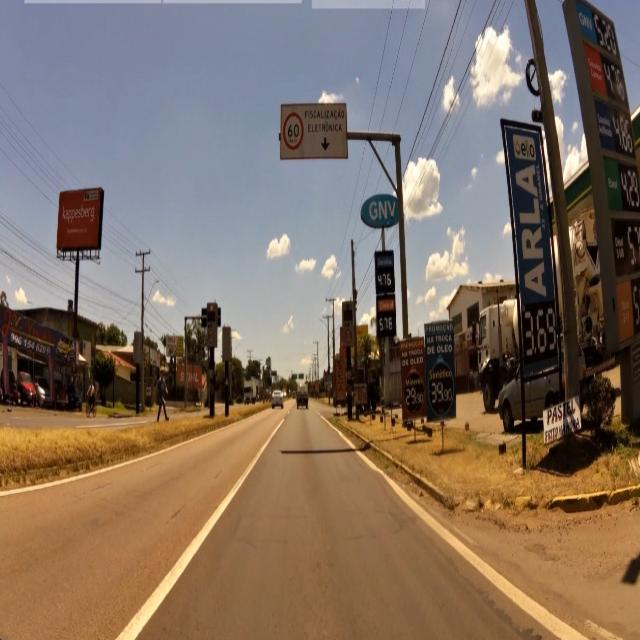R-19: (282, 112, 304, 151)
